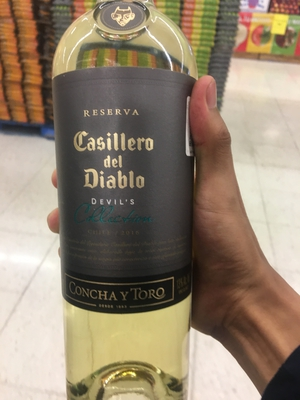casillero del diablo devils collection verde: (51, 20, 220, 400)
